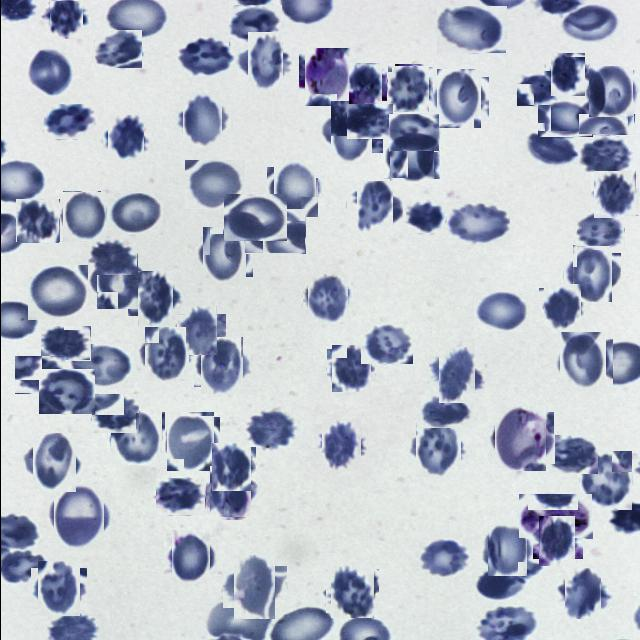red blood cell: (27, 265, 88, 321), (49, 486, 107, 544), (436, 6, 506, 54), (578, 452, 634, 508), (223, 194, 286, 241), (184, 160, 244, 209), (108, 410, 162, 464), (163, 414, 216, 468), (68, 344, 133, 388), (228, 560, 280, 614), (556, 335, 608, 388), (27, 436, 80, 488), (324, 106, 376, 159), (244, 209, 305, 254), (446, 202, 509, 245), (432, 73, 484, 125), (269, 163, 320, 214), (412, 422, 462, 474), (38, 369, 94, 414), (198, 230, 248, 280), (196, 340, 246, 390), (386, 132, 436, 182), (33, 564, 82, 614), (140, 329, 190, 378), (558, 6, 622, 44), (328, 566, 376, 616), (92, 257, 141, 305), (243, 409, 297, 452), (178, 36, 233, 78), (107, 193, 162, 235), (178, 96, 226, 144), (568, 249, 616, 297), (240, 38, 288, 86), (586, 68, 634, 116), (26, 48, 75, 95), (578, 94, 634, 135), (60, 192, 107, 240), (206, 470, 253, 518), (578, 136, 634, 176), (432, 352, 480, 398), (473, 292, 528, 332), (228, 5, 281, 46), (475, 563, 533, 600), (418, 538, 471, 578), (167, 534, 213, 580), (304, 276, 350, 322), (351, 186, 397, 232), (484, 527, 530, 573), (542, 435, 596, 474), (360, 324, 412, 364), (132, 276, 178, 320), (592, 172, 636, 218), (328, 346, 372, 391), (318, 422, 363, 466), (537, 101, 592, 137), (523, 131, 578, 167), (385, 66, 430, 110), (14, 356, 66, 394), (388, 114, 439, 152), (209, 445, 253, 489), (560, 572, 604, 616), (534, 518, 578, 562), (91, 394, 139, 434), (154, 478, 204, 516), (419, 395, 474, 429), (16, 198, 58, 242), (43, 104, 94, 140), (576, 212, 624, 250), (94, 30, 141, 68), (540, 286, 582, 328), (40, 326, 90, 361), (87, 240, 136, 275), (104, 118, 146, 158), (516, 71, 563, 106), (180, 310, 221, 350), (346, 104, 392, 139), (46, 0, 86, 37), (346, 65, 384, 103), (548, 56, 586, 94), (405, 202, 445, 234)
ring: (490, 408, 550, 468)
trophozoite: (518, 494, 592, 539), (301, 51, 353, 103)
